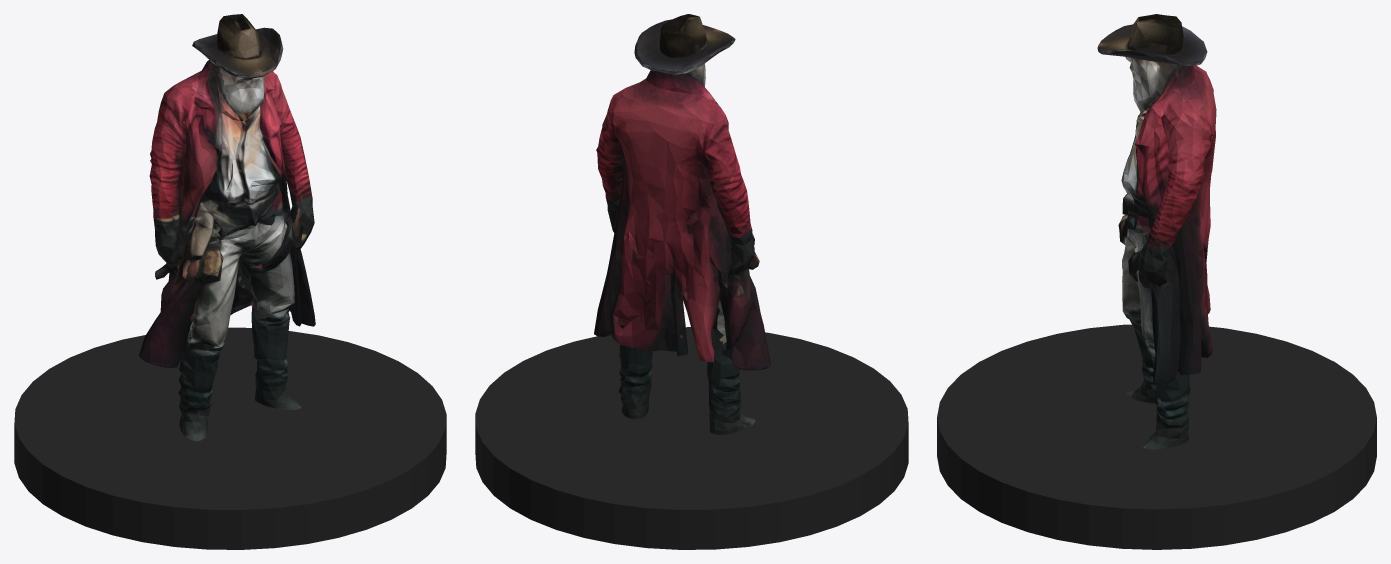
File: daniel-smith.glb
3 views of the same model, side by side, from view 1: azimuth 30°, elevation 25°; view 2: azimuth 150°, elevation 25°; view 3: azimuth 270°, elevation 25° (orthographic).
Visible parts, largest first — view 1: base, figure; view 2: base, figure; view 3: base, figure.
Boxes of the visible parts, bbox=[...] form: base: bbox=[14, 327, 446, 549]; figure: bbox=[139, 14, 315, 441]; base: bbox=[475, 327, 908, 549]; figure: bbox=[594, 14, 770, 435]; base: bbox=[937, 324, 1376, 549]; figure: bbox=[1097, 14, 1216, 449].
Size of the model in its own units: 1.18 by 1.32 by 1.18.
Materials: 2 (1 with a texture image).
